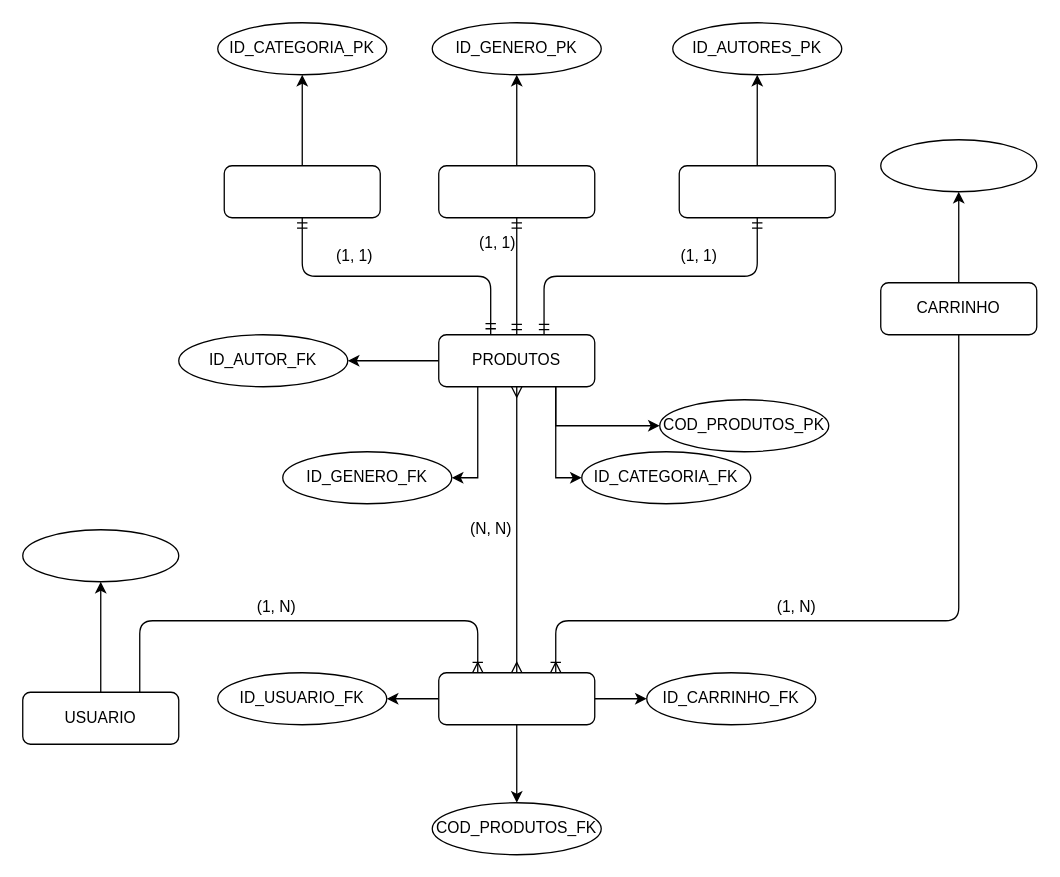
Image size: 1060x877. Some labels were removed from this diagram. The box of each missing label's shape, as (x1, y1, x2, y2) in pixels:
AUTOR: (678, 164, 835, 218)
CATEGORIAS: (223, 164, 380, 218)
GENERO: (437, 164, 595, 218)
ID_CARRINHO_PK: (879, 138, 1037, 192)
ID_USUARIO_PK: (21, 528, 179, 582)
PEDIDO: (437, 671, 595, 725)
